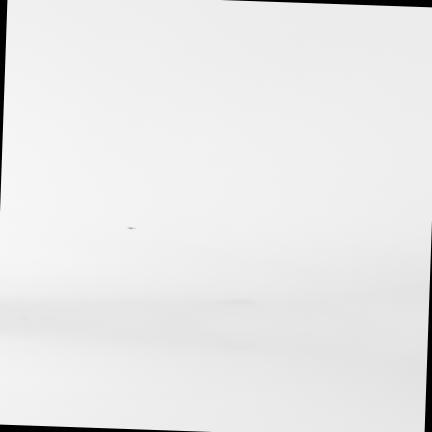Shahed: (128, 226, 136, 229)
